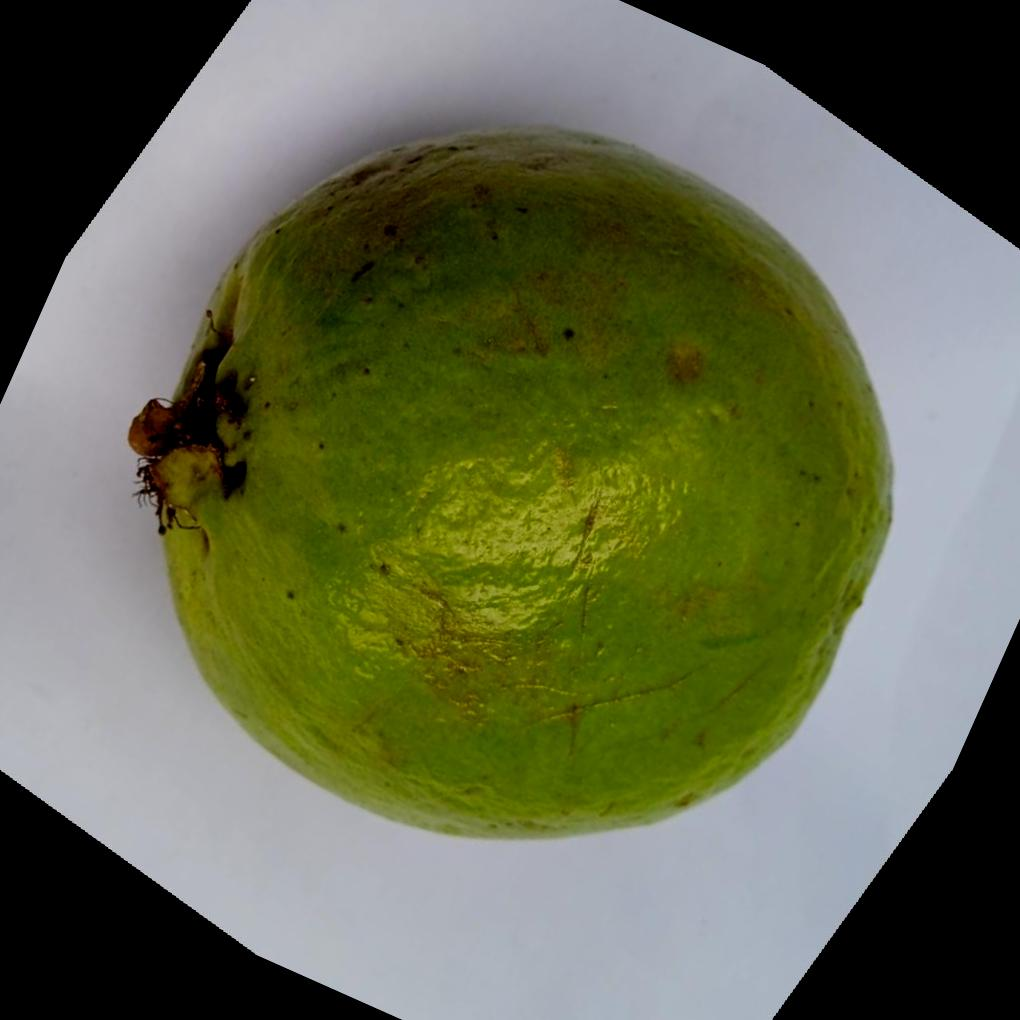FreshGuava: (124, 123, 894, 840)
